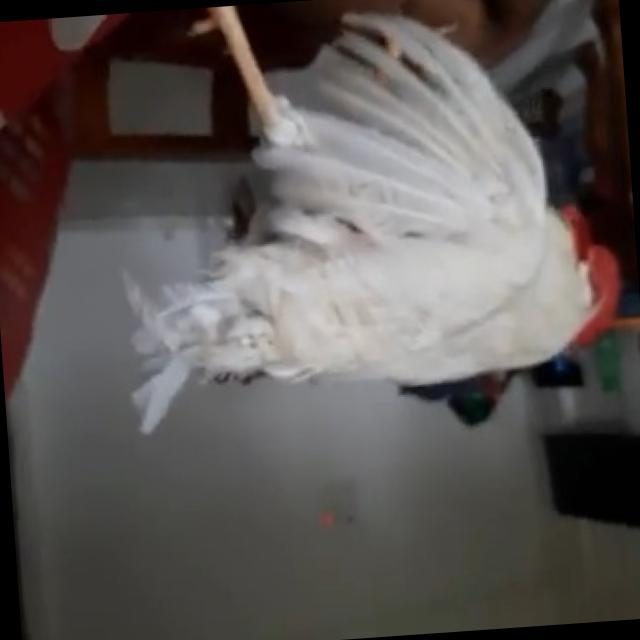wing and leg stretching: (97, 0, 640, 440)
